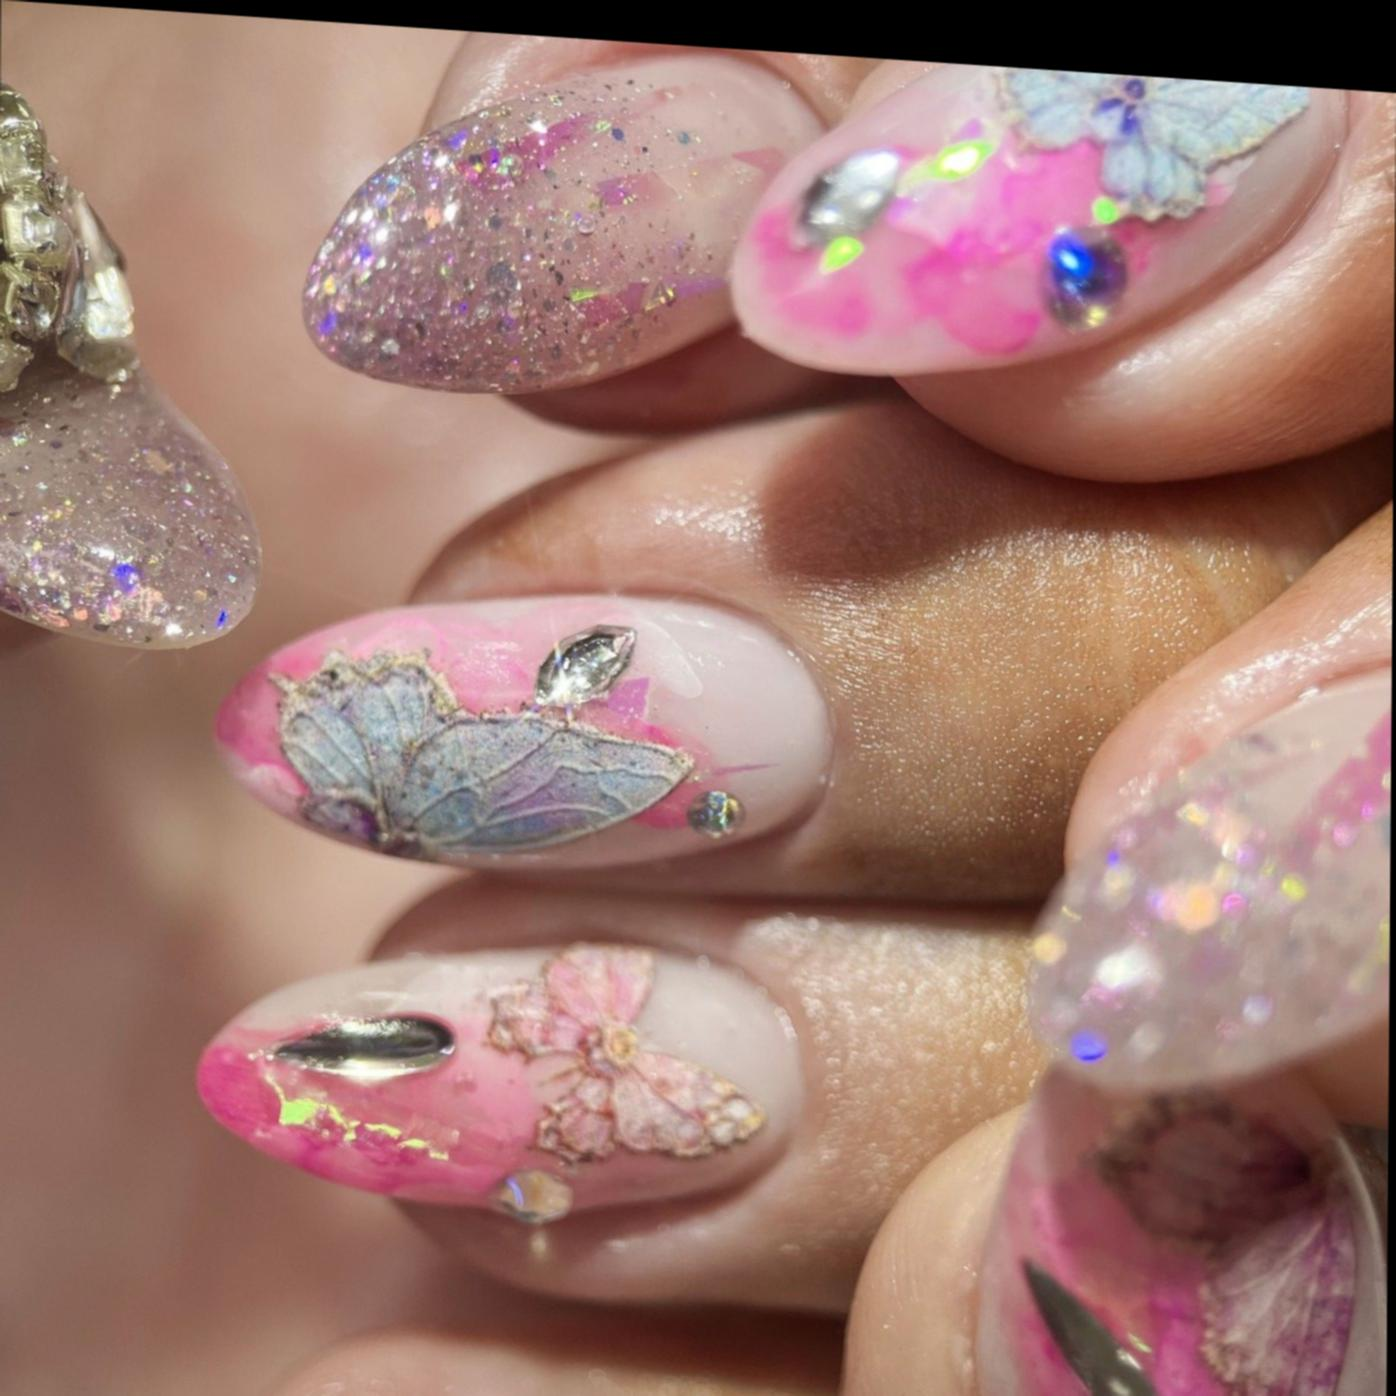nail: (724, 48, 1348, 413), (209, 562, 834, 899), (296, 23, 825, 421), (190, 913, 786, 1243), (1022, 638, 1392, 1125)
